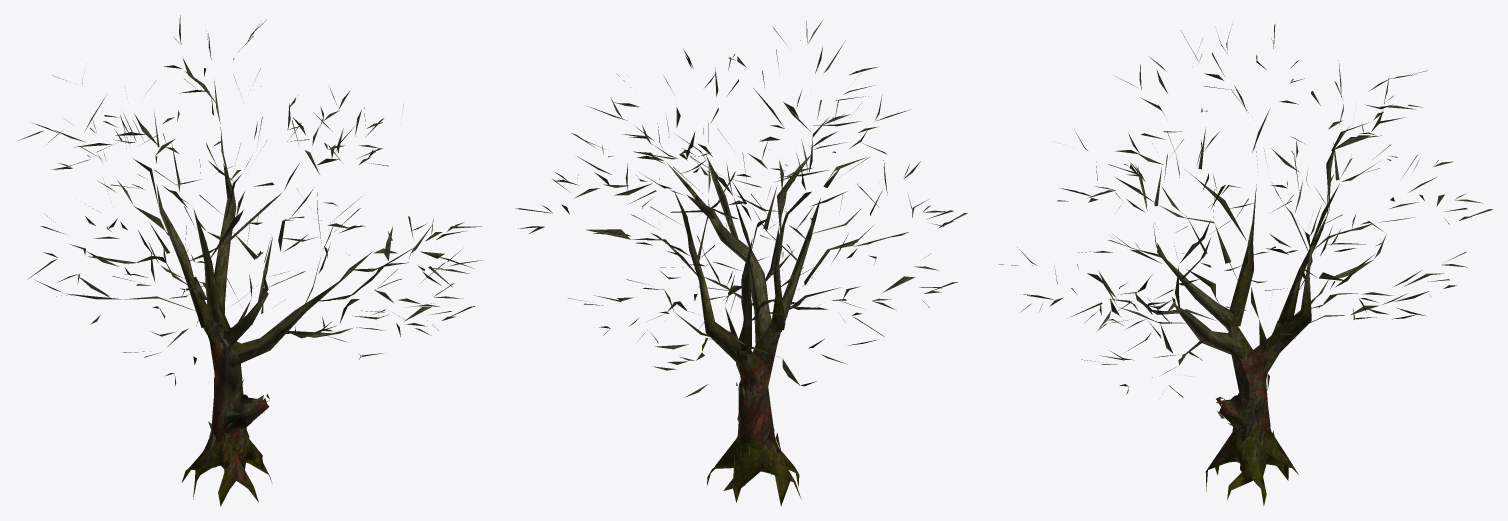
File: jungle_mort3_l1.glb
3 views of the same model, side by side, from view 1: azimuth 30°, elevation 25°; view 2: azimuth 150°, elevation 25°; view 3: azimuth 270°, elevation 25° (orthographic). The views are drawn at different scales.
Visible parts, largest first — view 1: TreeGen; view 2: TreeGen; view 3: TreeGen.
Boxes of the visible parts, x1,y1,x2,y2 form: TreeGen: (17,15,482,506); TreeGen: (515,19,967,506); TreeGen: (998,24,1493,506).
Bounding box in the file's own units: 17.8 × 20.91 × 21.3.
1 material, 1 textured.
